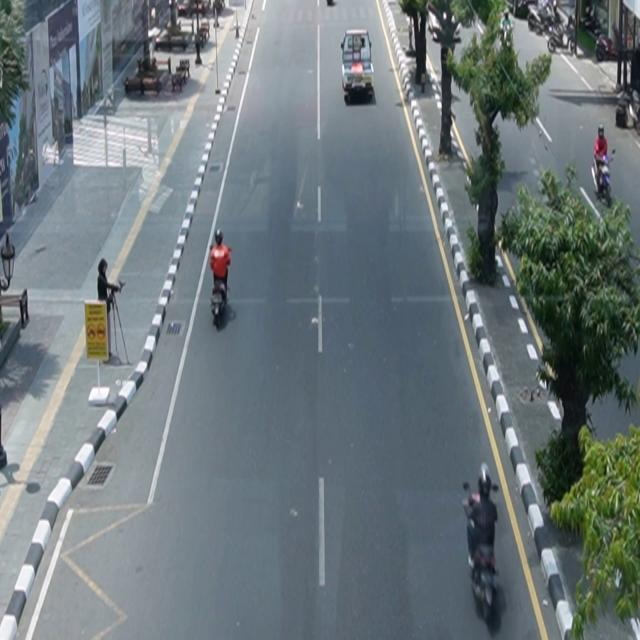car: (342, 29, 376, 101)
